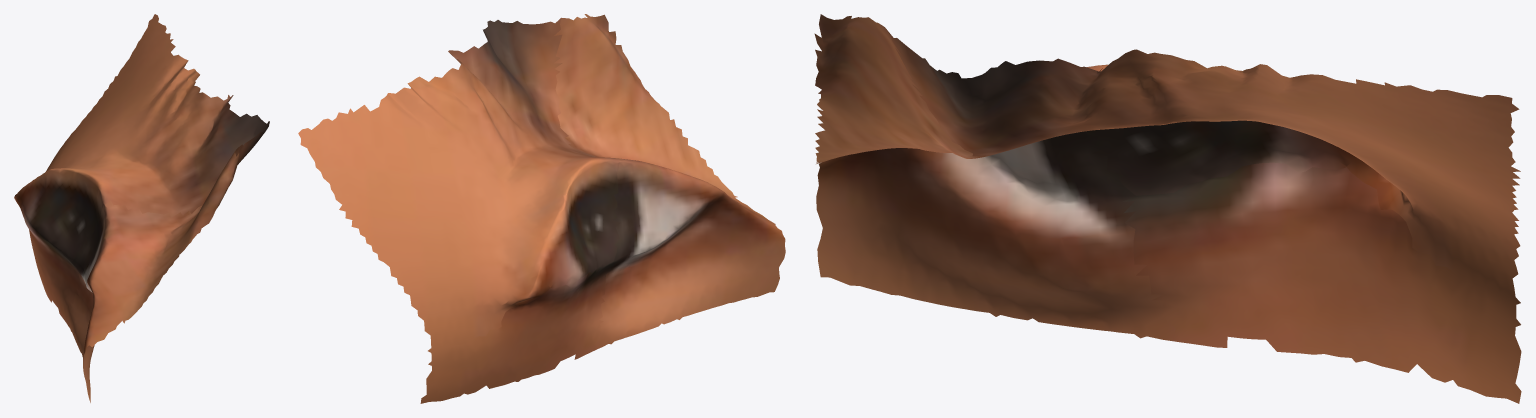
File: COLLIDER_EYE_RIGHT.glb
3 views of the same model, side by side, from view 1: azimuth 30°, elevation 25°; view 2: azimuth 150°, elevation 25°; view 3: azimuth 270°, elevation 25° (orthographic). The views are drawn at different scales.
Visible parts, largest first — view 1: tripo_node_9bab15ef-14f4-426d-8081-19d1b5f2643f; view 2: tripo_node_9bab15ef-14f4-426d-8081-19d1b5f2643f; view 3: tripo_node_9bab15ef-14f4-426d-8081-19d1b5f2643f.
Boxes of the visible parts, x1,y1,x2,y2 form: tripo_node_9bab15ef-14f4-426d-8081-19d1b5f2643f: (14,14,269,402); tripo_node_9bab15ef-14f4-426d-8081-19d1b5f2643f: (298,14,785,403); tripo_node_9bab15ef-14f4-426d-8081-19d1b5f2643f: (814,14,1521,403).
Bounding box in the file's own units: 0.0851 × 0.0691 × 0.1062.
1 material, 1 textured.
